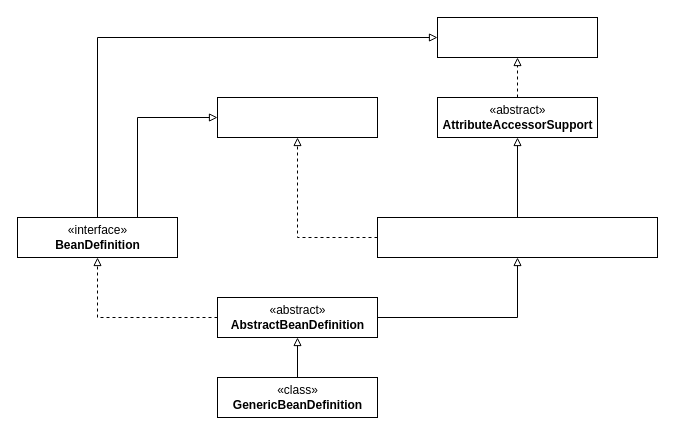
The diagram is 675 pixels wide and 435 high, and some of its shapes have lost their labels. Here are the shapes that lost their labels. From the top down, the box of each, then its label:
(436, 16, 598, 58): «interface» AttributeAccessor
(216, 96, 378, 138): «interface» BeanMetadataElement
(376, 216, 658, 258): «class» BeanMetadataAttributeAccessorDefinition
